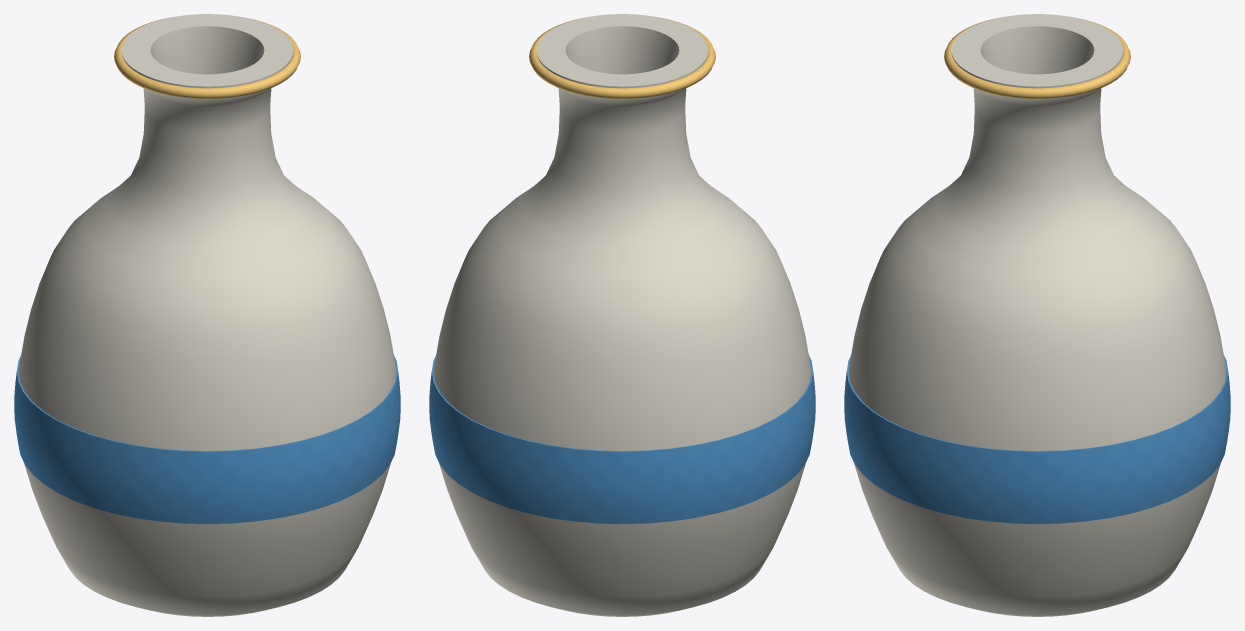
The model's file is VASE.glb.
3 renders of one model, left to right at view 1: azimuth 30°, elevation 25°; view 2: azimuth 150°, elevation 25°; view 3: azimuth 270°, elevation 25°, orthographic.
Visible parts, largest first — view 1: VASE; view 2: VASE; view 3: VASE.
Part boxes in pixels (x1,y1,x2,y2): VASE: (14,14,400,616); VASE: (429,14,815,616); VASE: (844,14,1230,616).
Bounding box in the file's own units: 0.333 × 0.492 × 0.333.
3 materials, 1 textured.
